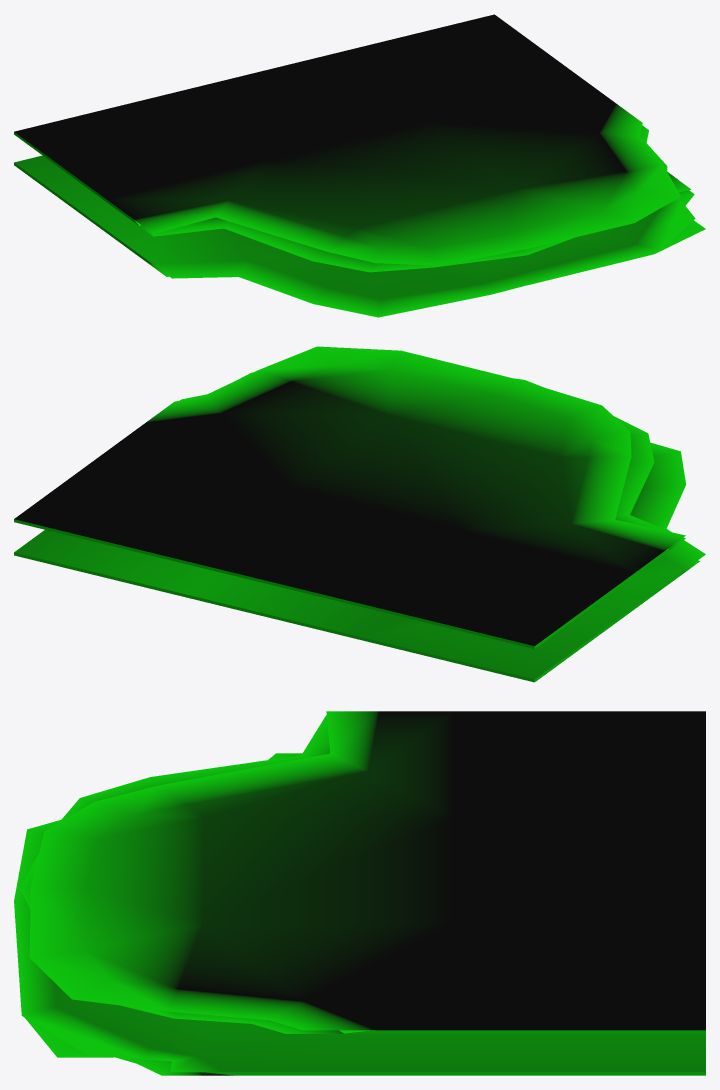
File: DBK_Plywood_Floor_Tile_D.fbx
3 renders of one model, top to bottom at view 1: azimuth 30°, elevation 25°; view 2: azimuth 150°, elevation 25°; view 3: azimuth 270°, elevation 25°, orthographic. The views are drawn at different scales.
Parts seen in each view (by area): view 1: DBK_Plywood_Floor_Tile_D; view 2: DBK_Plywood_Floor_Tile_D; view 3: DBK_Plywood_Floor_Tile_D.
Boxes of the visible parts, x1,y1,x2,y2 form: DBK_Plywood_Floor_Tile_D: (14, 14, 705, 317); DBK_Plywood_Floor_Tile_D: (14, 346, 705, 682); DBK_Plywood_Floor_Tile_D: (14, 711, 705, 1075).
Size of what is drawn, in the model's own units: 300 by 20 by 275.
